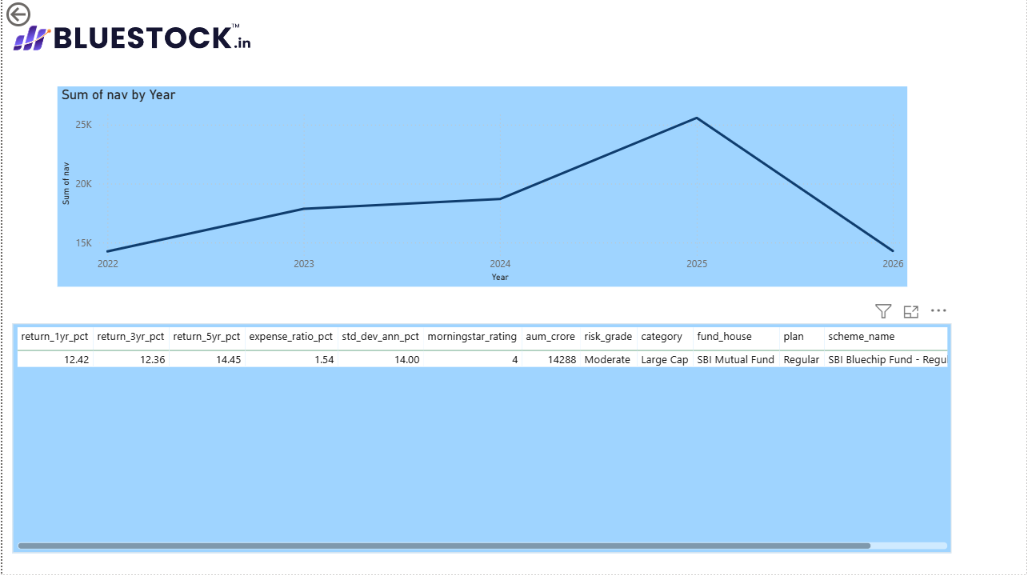

What the dashboard file says about the page in this screenshot:
{"tool":"powerbi","page":{"name":"NAV Details","canvas":[1280,720],"ordinal":4},"visuals":[{"type":"actionButton","box":[0,0,100,40],"z":0},{"type":"lineChart","fields":{"Category":["02_nav_history_cleaned.date.Variation.Date Hierarchy.Year","02_nav_history_cleaned.date.Variation.Date Hierarchy.Quarter","02_nav_history_cleaned.date.Variation.Date Hierarchy.Month","02_nav_history_cleaned.date.Variation.Date Hierarchy.Day"],"Y":["Sum(02_nav_history_cleaned.nav)"]},"box":[68.8,110,1062.5,250],"z":1},{"type":"tableEx","fields":{"Values":["07_scheme_performance_cleaned.return_1yr_pct","07_scheme_performance_cleaned.return_3yr_pct","07_scheme_performance_cleaned.return_5yr_pct","07_scheme_performance_cleaned.expense_ratio_pct","07_scheme_performance_cleaned.std_dev_ann_pct","07_scheme_performance_cleaned.morningstar_rating","07_scheme_performance_cleaned.aum_crore","07_scheme_performance_cleaned.risk_grade","07_scheme_performance_cleaned.category","07_scheme_performance_cleaned.fund_house","07_scheme_performance_cleaned.plan","07_scheme_performance_cleaned.scheme_name"]},"box":[12.5,406.2,1173.8,287.5],"z":2},{"type":"image","box":[12.5,0,300,96.2],"z":3}]}

Visuals, with their boxes on the page's 1280x720 design canvas (x1, y1, x2, y2). These are canvas units, not pixel positions in the 1027x575 screenshot, which may show the page scaled, cropped or inside an application window:
actionButton: (0,0,100,40)
lineChart - 02_nav_history_cleaned.date.Variation.Date Hierarchy.Year x 02_nav_history_cleaned.date.Variation.Date Hierarchy.Quarter: (69,110,1131,360)
tableEx - 07_scheme_performance_cleaned.return_1yr_pct x 07_scheme_performance_cleaned.return_3yr_pct: (12,406,1186,694)
image: (12,0,312,96)
